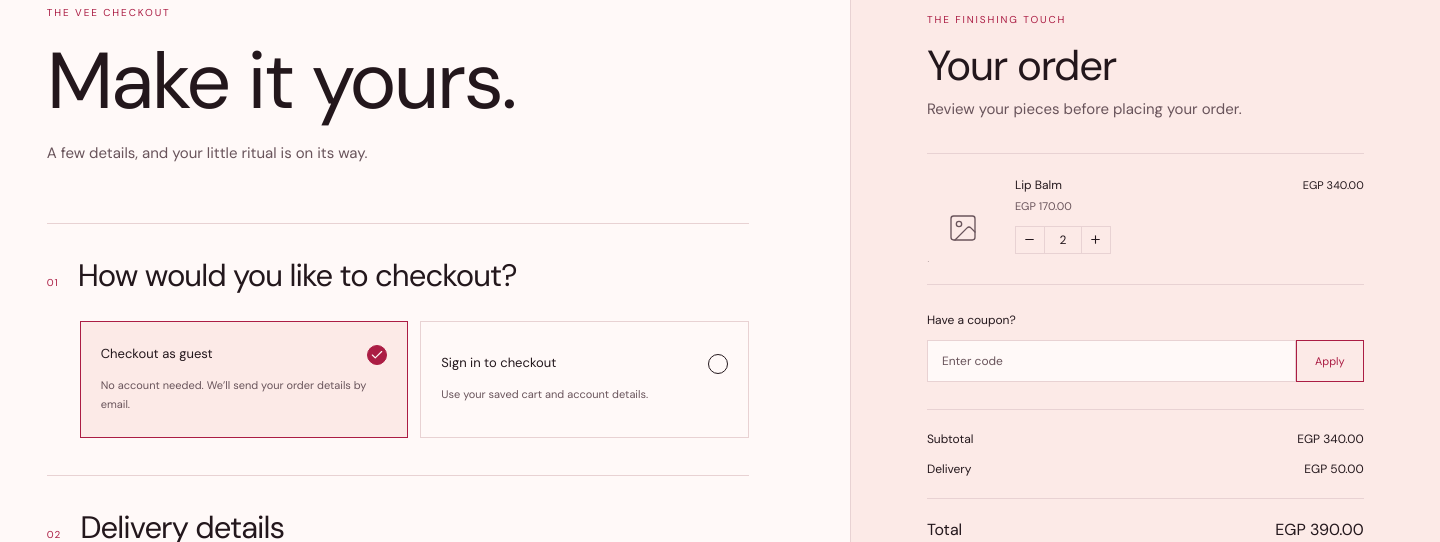
Test: keeps a usable total and explains a coupon that does not exist
This screenshot has width=1440, height=542.
Expected: the text "EGP 390.00" is shown, x1=1275 y1=518 x2=1364 y2=540
Step 1. Type "MISSING" into the field labelled "Have a coupon?" → (1111, 360), box x1=927 y1=340 x2=1296 y2=382
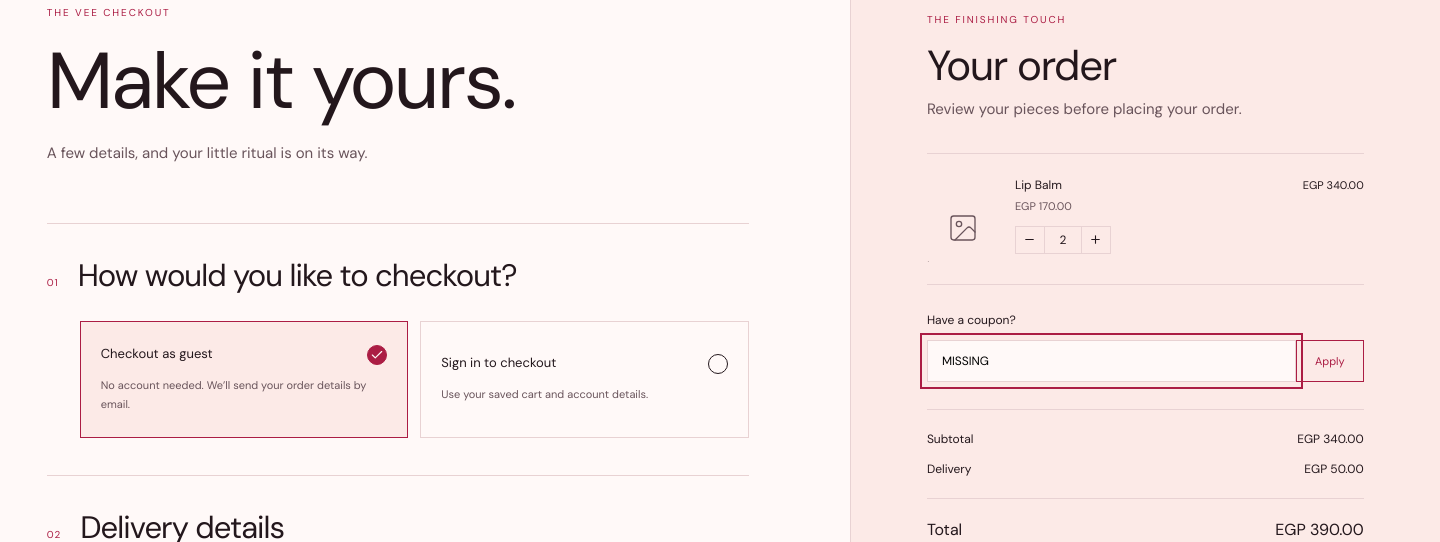
Step 2. Click the button "Apply" → (1330, 360), box x1=1296 y1=340 x2=1364 y2=382
(page scrolled)
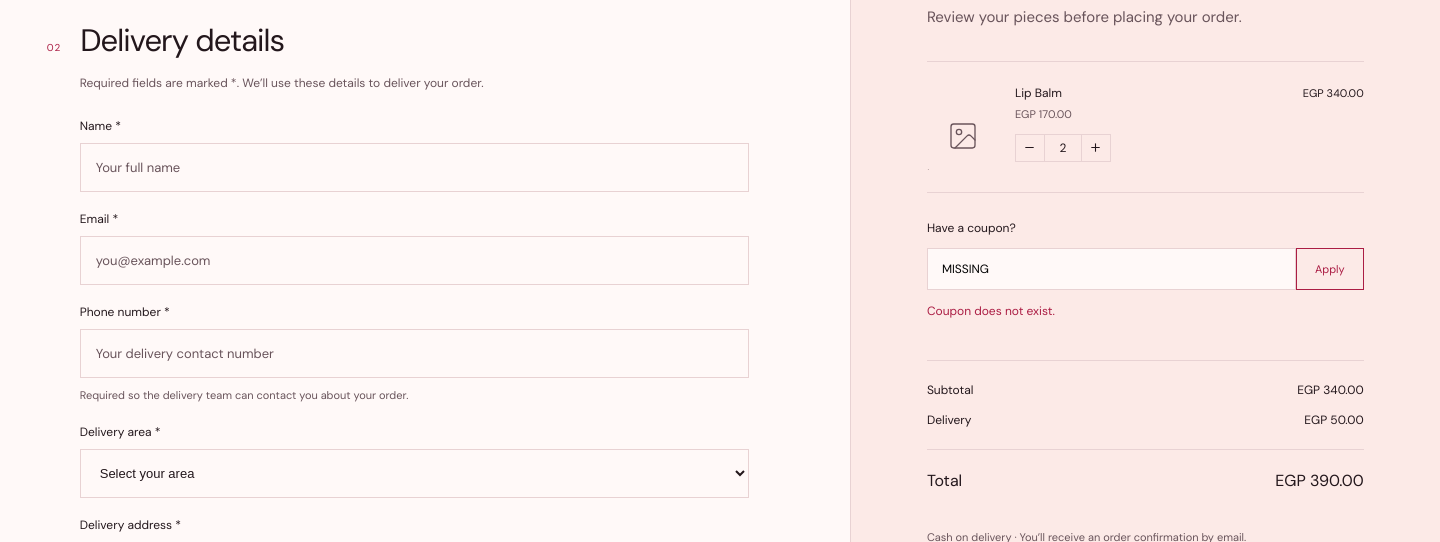
Expected: the text "EGP 390.00" is shown, x1=1275 y1=470 x2=1364 y2=491
Now the text "Coupon does not exist." is shown, box x1=927 y1=302 x2=1055 y2=318
